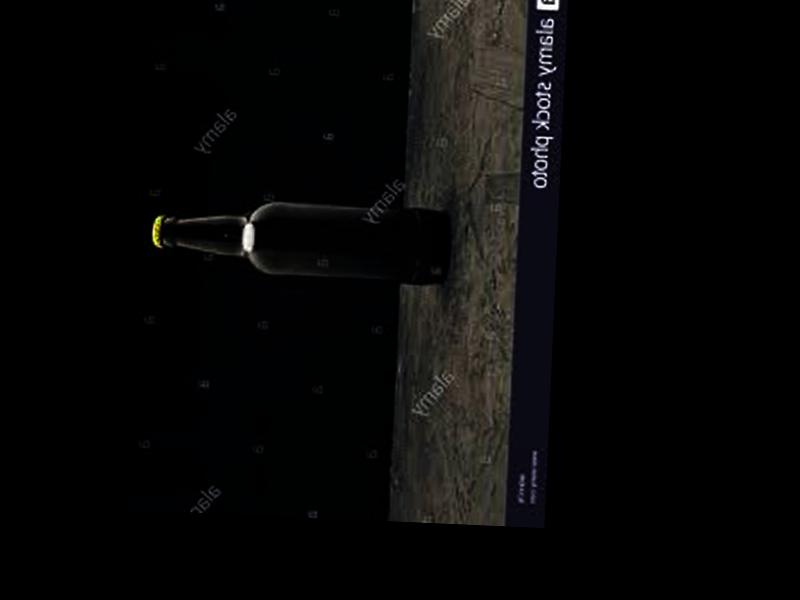Beer: (151, 202, 449, 284)
